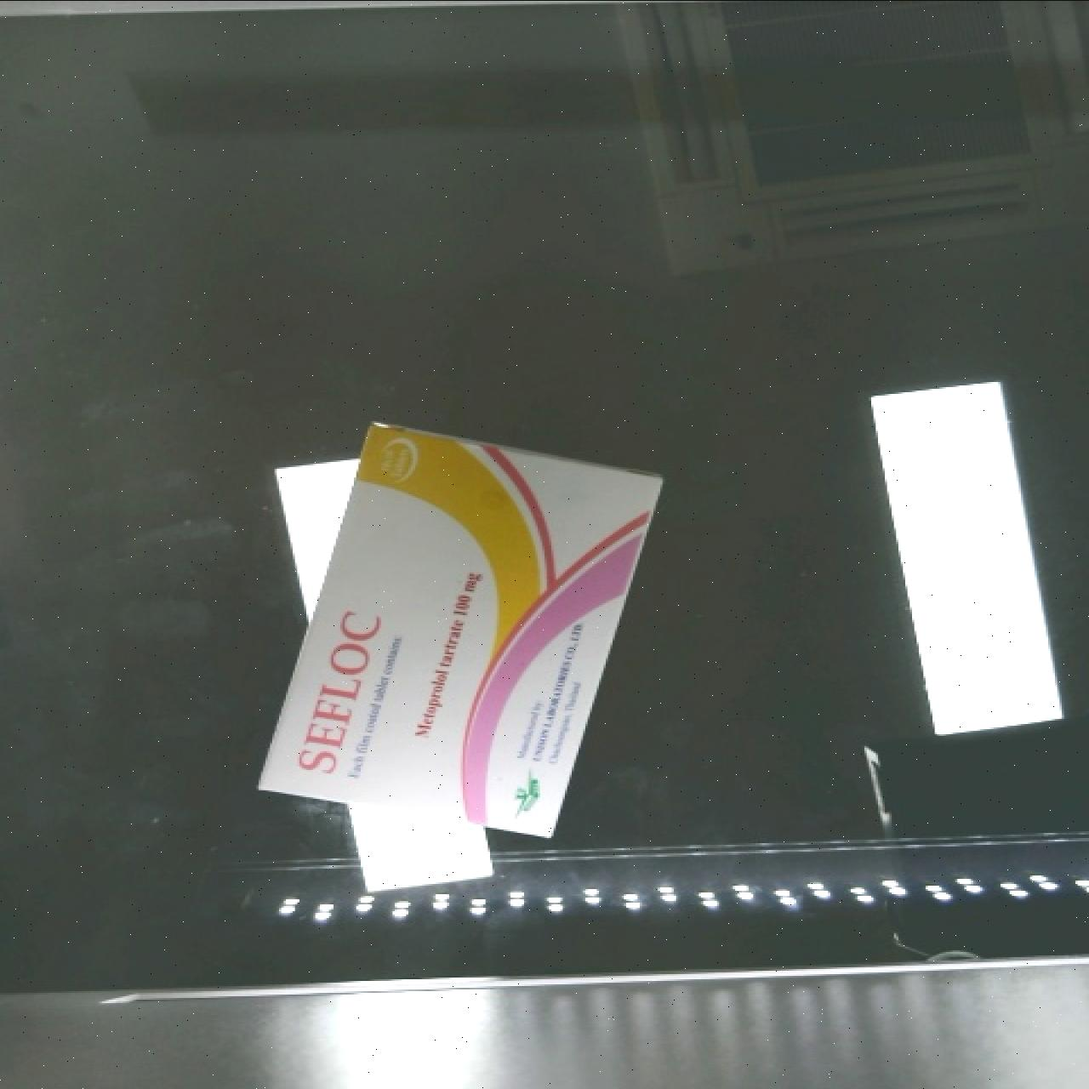medicine_label_obb: (268, 582, 396, 802)
